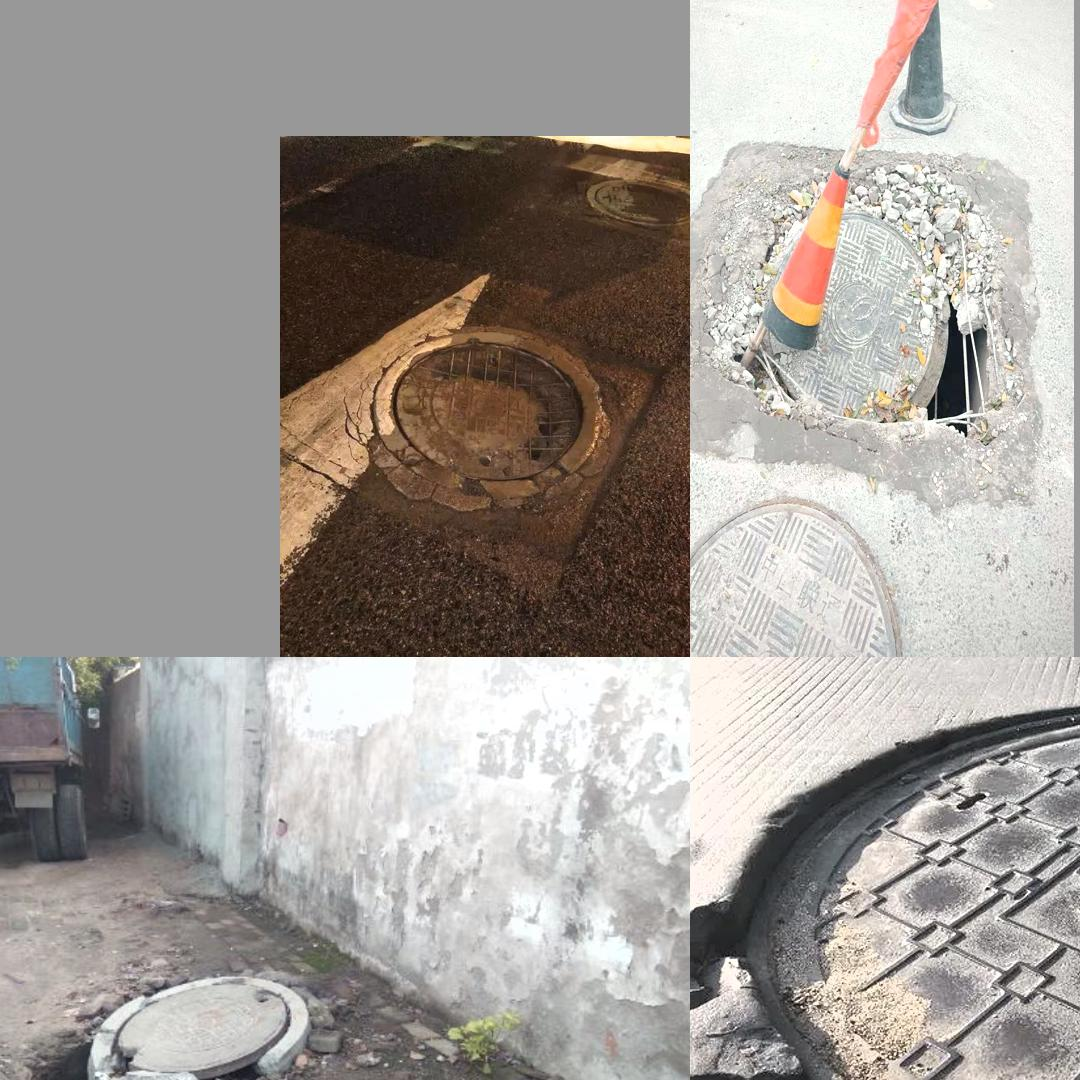circle: (708, 698, 1080, 1080), (309, 307, 651, 559), (747, 206, 992, 424), (47, 973, 313, 1080)
